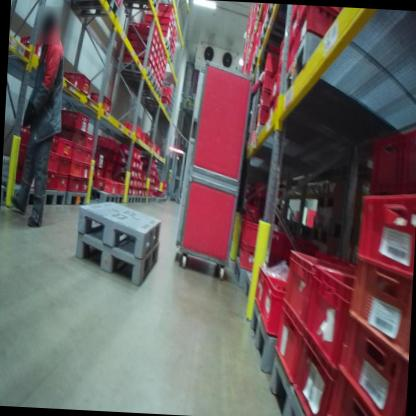pallet: (75, 217, 162, 287), (73, 198, 162, 262), (247, 301, 283, 385), (266, 358, 313, 416), (67, 0, 119, 21), (5, 179, 41, 208), (240, 268, 258, 310), (233, 253, 248, 297), (36, 185, 66, 206), (90, 185, 117, 205), (65, 191, 89, 207), (114, 191, 126, 206), (1, 183, 6, 206), (127, 194, 136, 204), (135, 192, 141, 204), (142, 195, 147, 203)
small_load_carrier: (343, 249, 413, 371), (335, 310, 411, 416), (279, 248, 350, 342), (351, 187, 416, 284), (300, 261, 352, 369), (288, 323, 347, 416), (270, 297, 312, 391), (326, 365, 394, 416), (259, 273, 292, 342), (296, 6, 343, 49), (254, 262, 281, 316), (239, 217, 268, 255), (60, 66, 93, 97), (14, 33, 46, 64), (238, 241, 267, 273), (265, 228, 297, 256), (57, 108, 91, 134), (86, 89, 115, 116), (57, 125, 89, 147), (286, 14, 299, 68), (262, 49, 282, 77), (255, 86, 276, 108), (136, 19, 158, 40), (93, 144, 116, 164), (56, 137, 75, 160), (43, 149, 60, 174), (94, 134, 118, 151), (121, 120, 142, 139), (266, 94, 278, 126), (99, 174, 119, 193), (261, 69, 275, 95), (269, 64, 280, 97), (253, 106, 268, 130), (136, 29, 156, 46), (42, 167, 58, 188), (135, 38, 154, 55), (276, 34, 286, 66), (118, 142, 138, 158), (117, 152, 137, 168), (56, 156, 72, 175), (72, 144, 87, 164), (115, 171, 133, 187), (63, 175, 81, 191), (117, 164, 135, 179), (133, 48, 152, 62), (92, 152, 106, 171), (132, 57, 152, 70), (82, 145, 95, 164), (68, 162, 82, 177), (156, 15, 172, 28), (81, 163, 92, 181), (114, 180, 126, 196), (86, 134, 96, 153), (93, 162, 104, 179), (104, 158, 115, 174), (56, 173, 67, 189), (120, 55, 135, 66), (78, 178, 89, 193), (121, 39, 137, 48), (143, 14, 159, 23), (138, 131, 148, 145), (120, 47, 137, 55), (161, 86, 170, 100), (129, 24, 140, 35), (122, 34, 140, 40), (161, 29, 170, 40), (162, 24, 171, 35), (150, 139, 157, 153), (160, 97, 170, 105), (154, 145, 161, 156), (136, 147, 141, 160), (135, 159, 140, 170), (139, 160, 144, 171), (146, 137, 151, 147), (111, 0, 122, 4), (162, 179, 167, 187)
